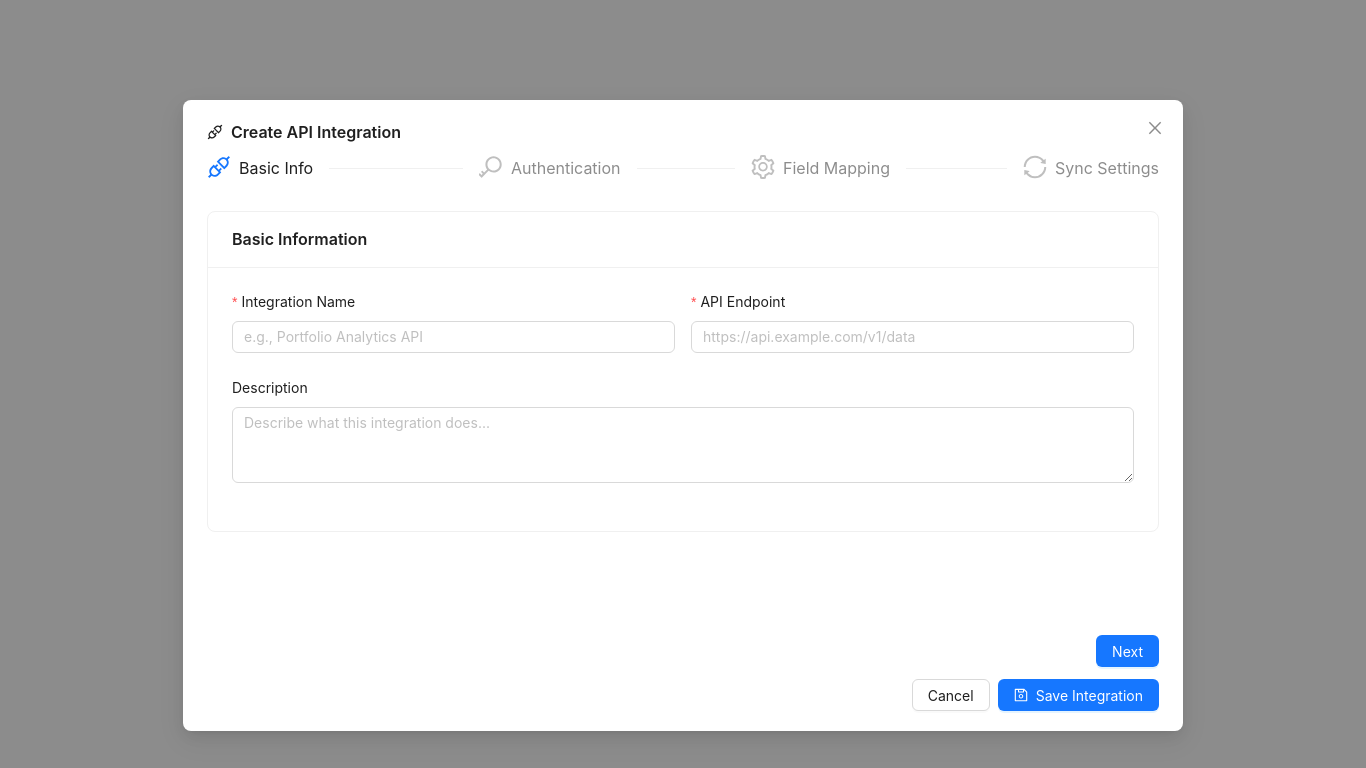
IntegrationSetup › Authentication Step › shows OAuth fields when OAuth selected
Navigate to authentication step
Step 1. Click the button "Authentication" → coordinates (550, 167), box [479, 155, 620, 179]
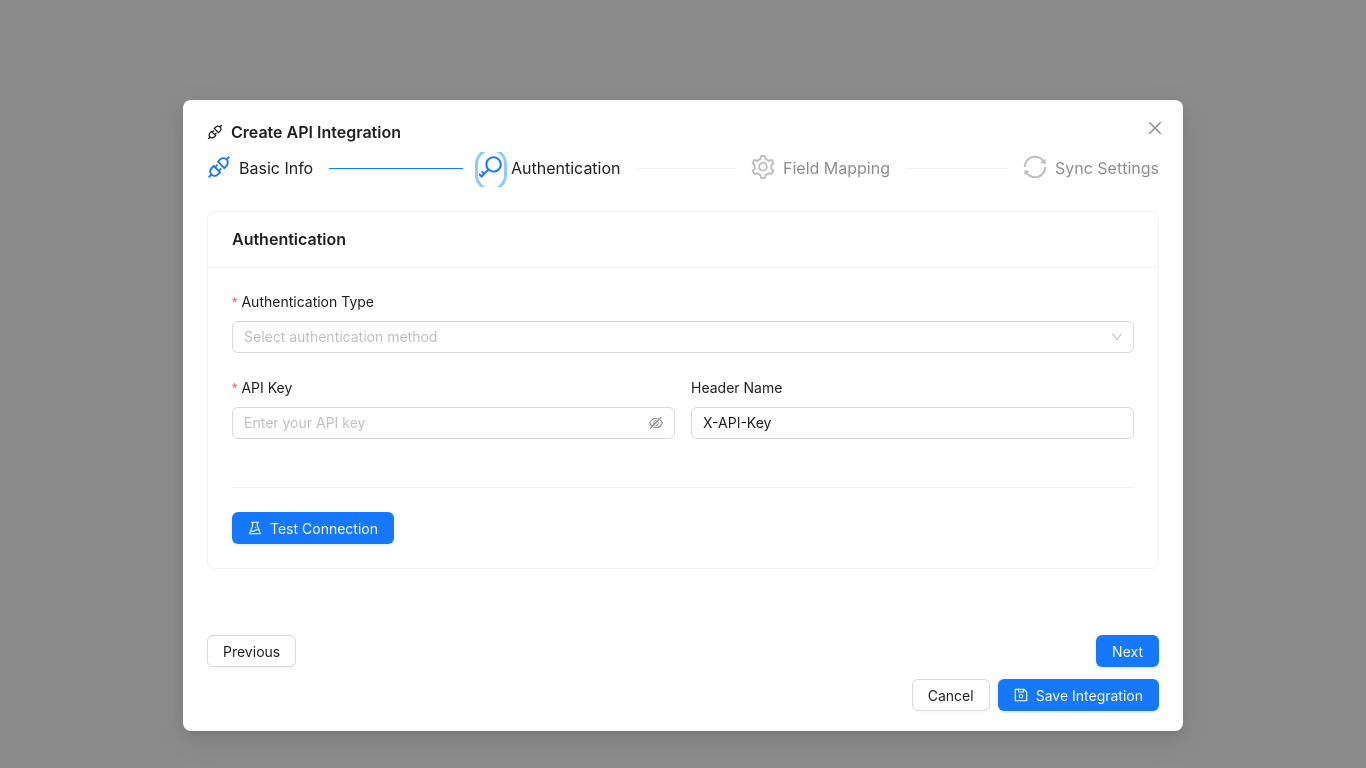
Select OAuth
Step 2. Click the dropdown labelled "Authentication Type" → coordinates (308, 302), box [242, 293, 374, 310]
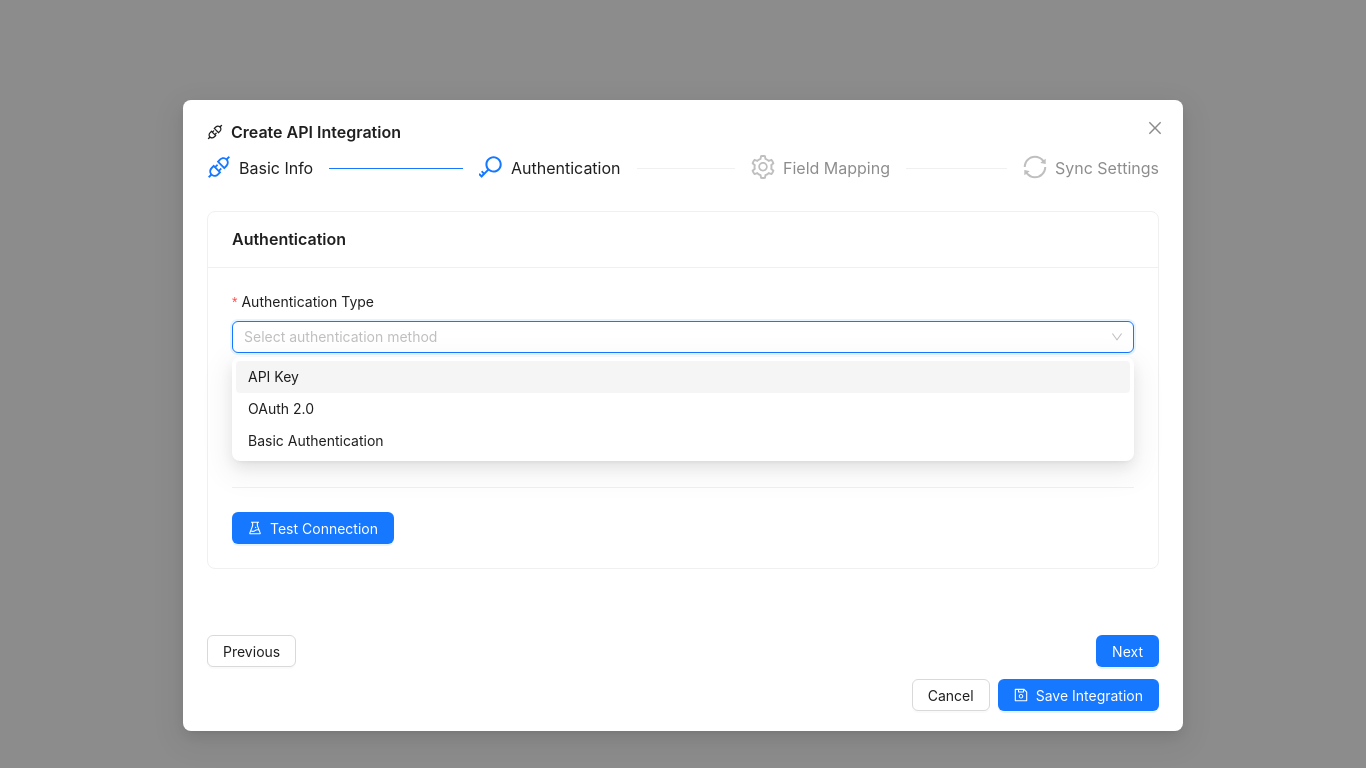
Step 3. Click the text "OAuth 2.0" → coordinates (281, 408), box [248, 400, 314, 417]
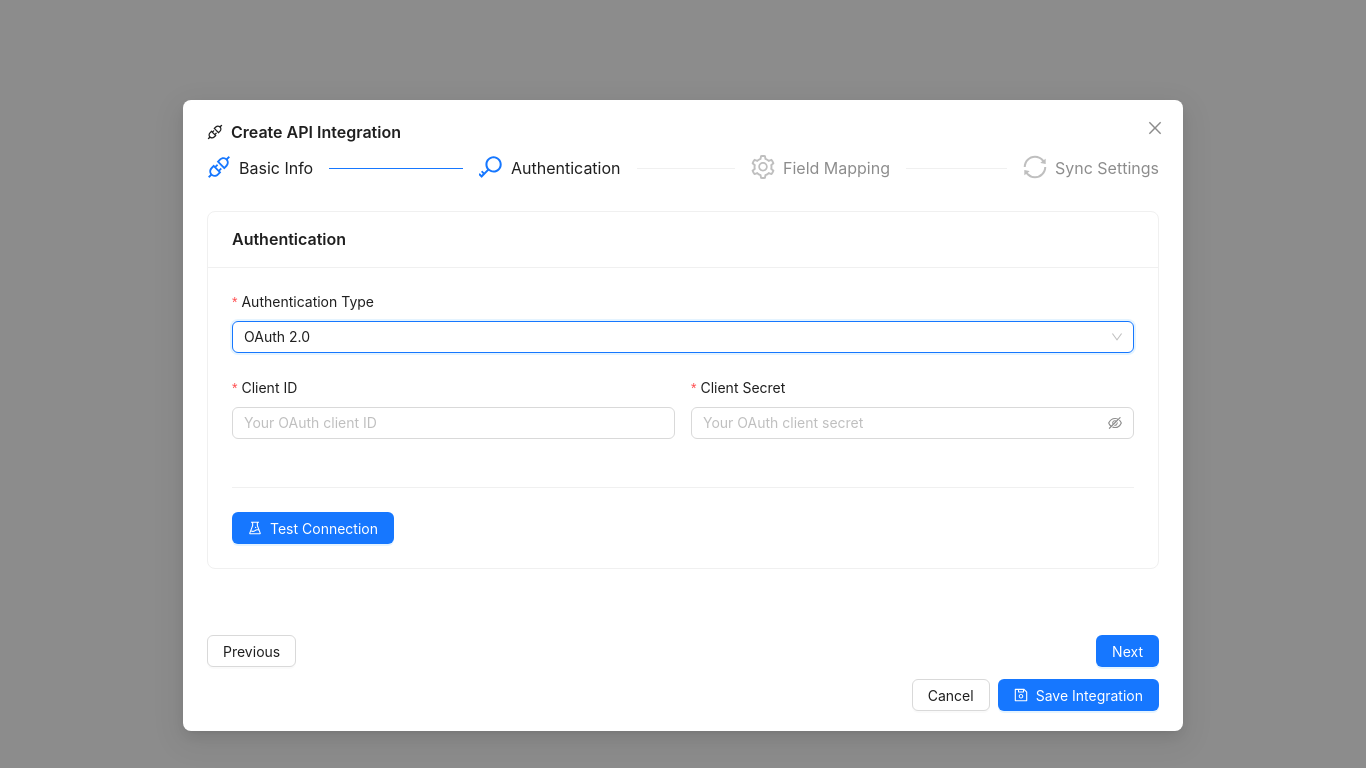
Expected: the text "Client ID" is shown, [232, 377, 311, 399]
Expected: the text "Client Secret" is shown, [691, 377, 799, 399]
